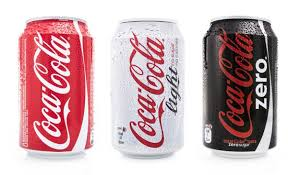can: (106, 12, 188, 162), (13, 15, 99, 157), (198, 14, 282, 158)
